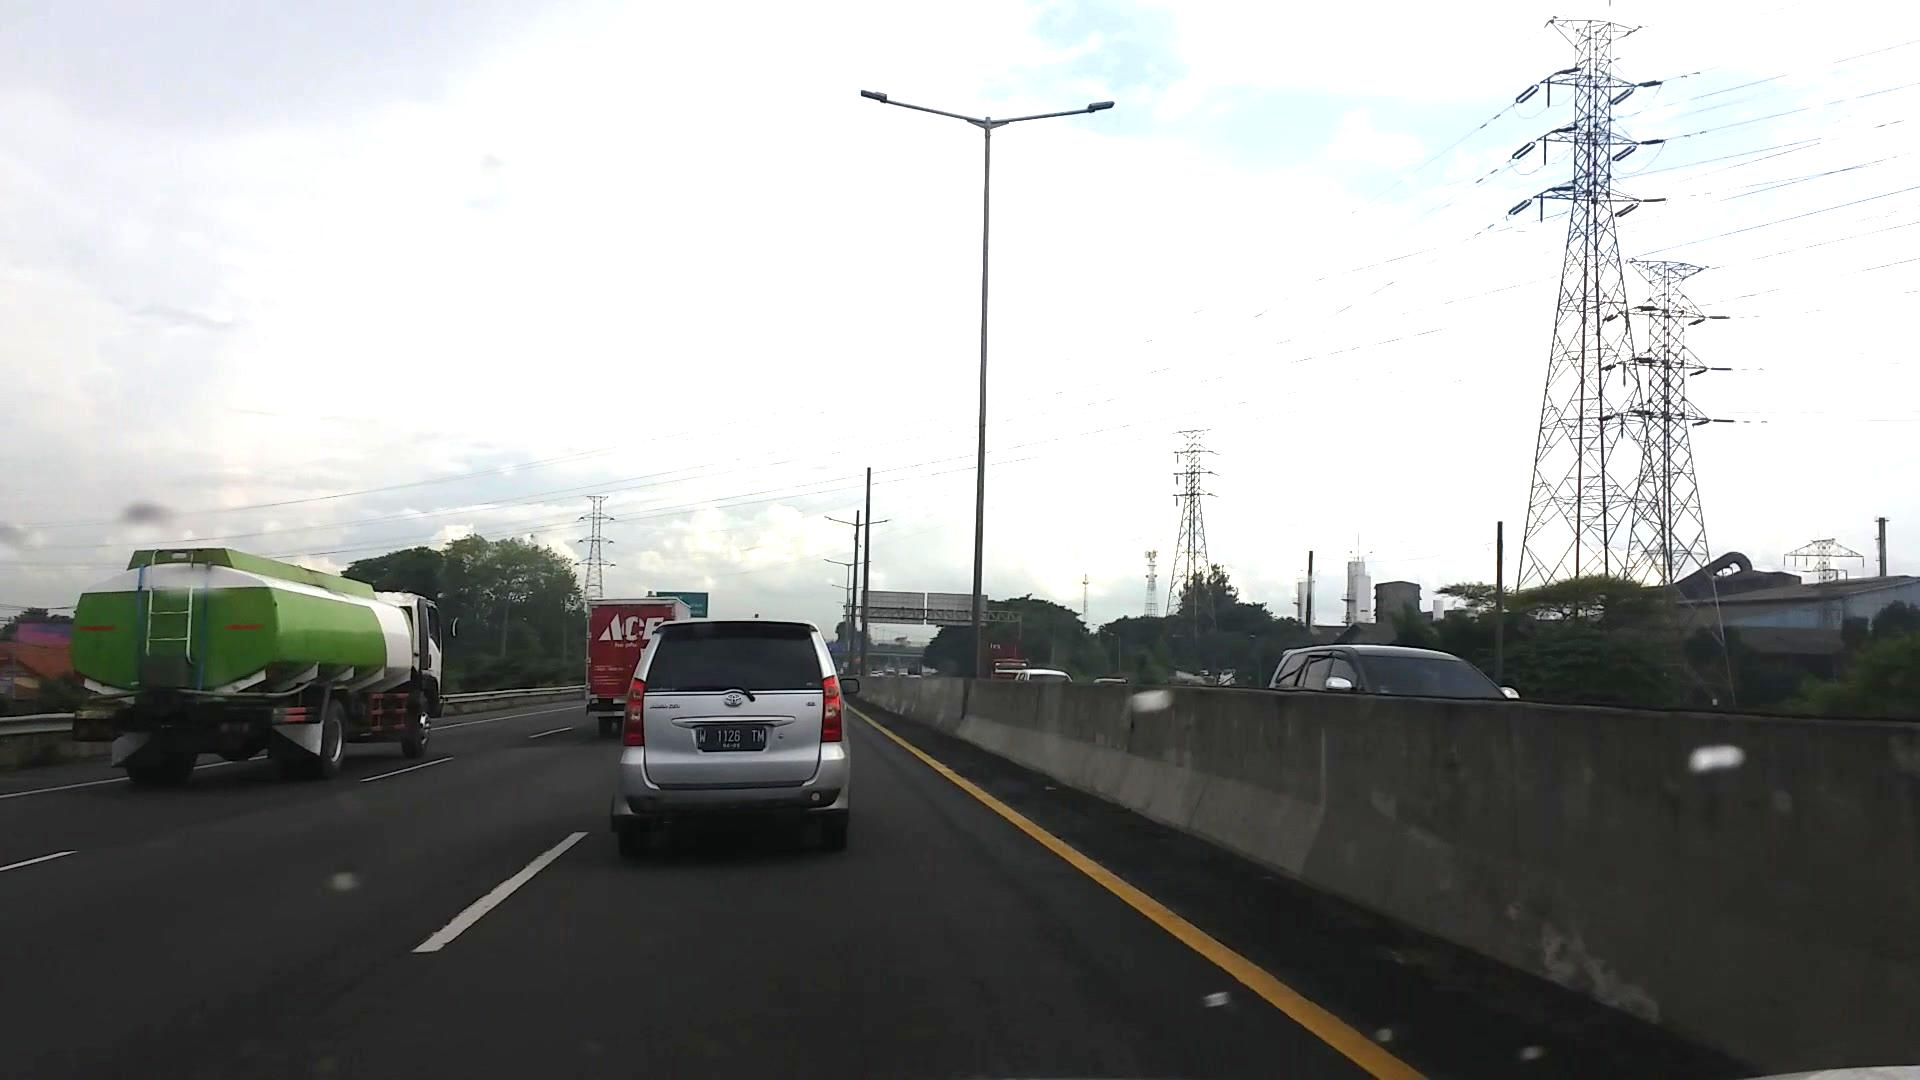plate_positive: (696, 725, 766, 752)
